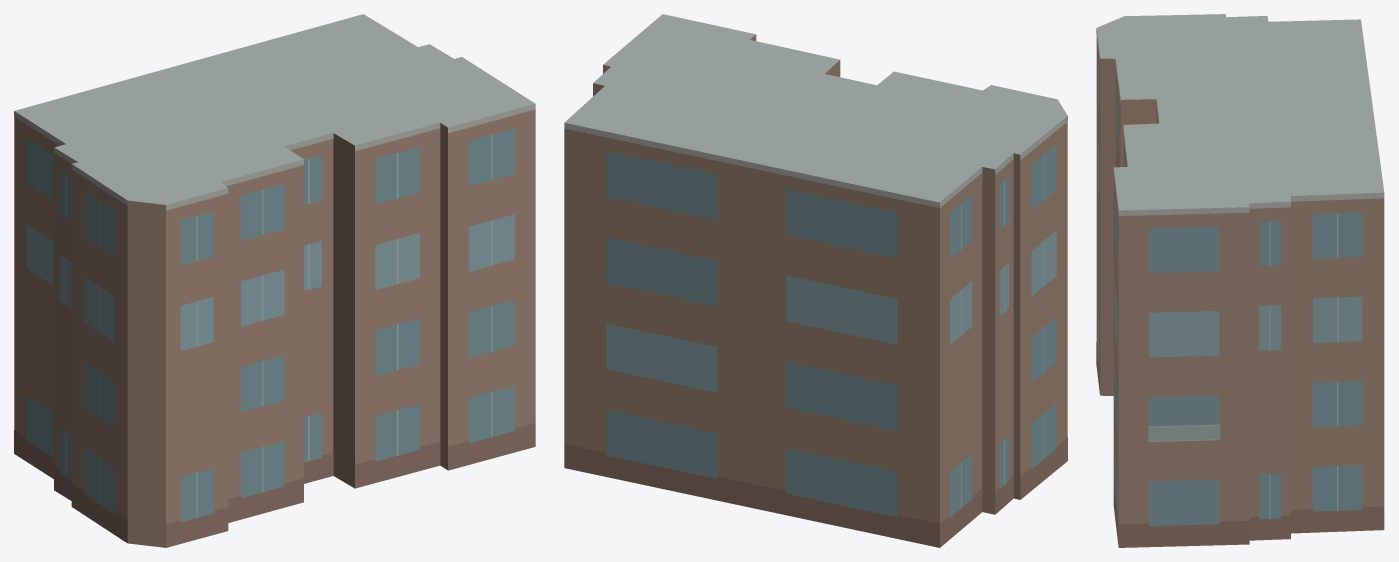
File: survey-upis-32757102.glb
3 views of the same model, side by side, from view 1: azimuth 30°, elevation 25°; view 2: azimuth 150°, elevation 25°; view 3: azimuth 270°, elevation 25° (orthographic). The views are drawn at different scales.
Visible parts, largest first — view 1: survey-upis-32757102.tmp; view 2: survey-upis-32757102.tmp; view 3: survey-upis-32757102.tmp.
Boxes of the visible parts, x1,y1,x2,y2 form: survey-upis-32757102.tmp: (14,14,535,547); survey-upis-32757102.tmp: (564,14,1067,547); survey-upis-32757102.tmp: (1096,14,1384,547).
Size of the model in its own units: 18.46 by 14.76 by 11.43.
